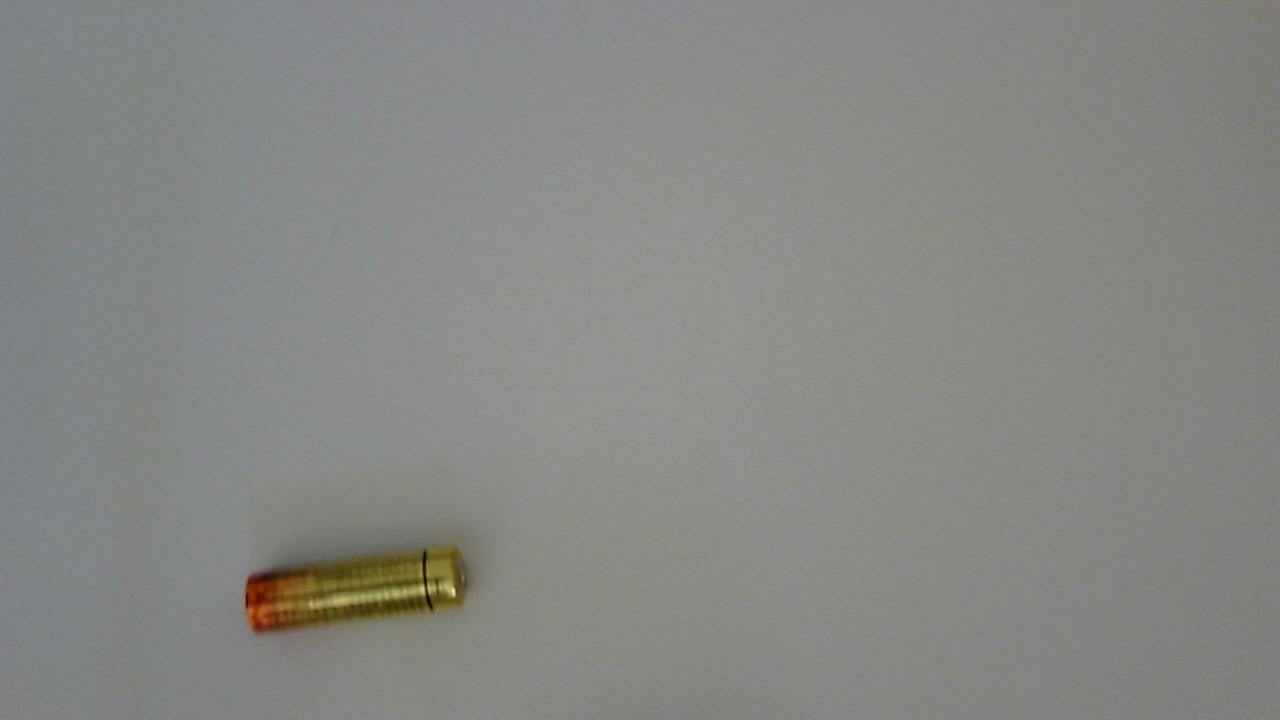Battery: (242, 537, 485, 657)
